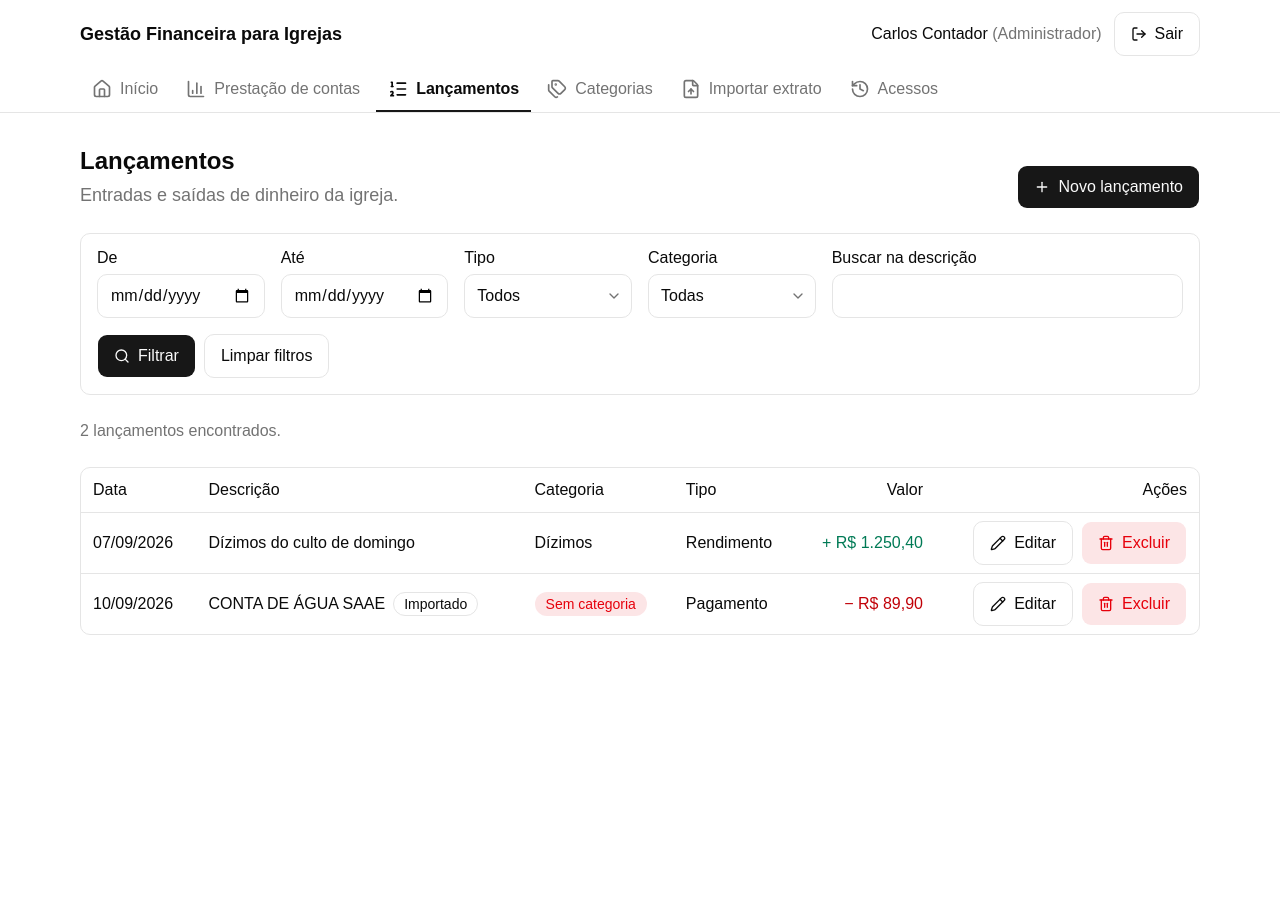
Página de lançamentos › cadastra um lançamento convertendo o valor brasileiro
Click the button "Novo lançamento": [1109, 187] box [1018, 165, 1200, 209]
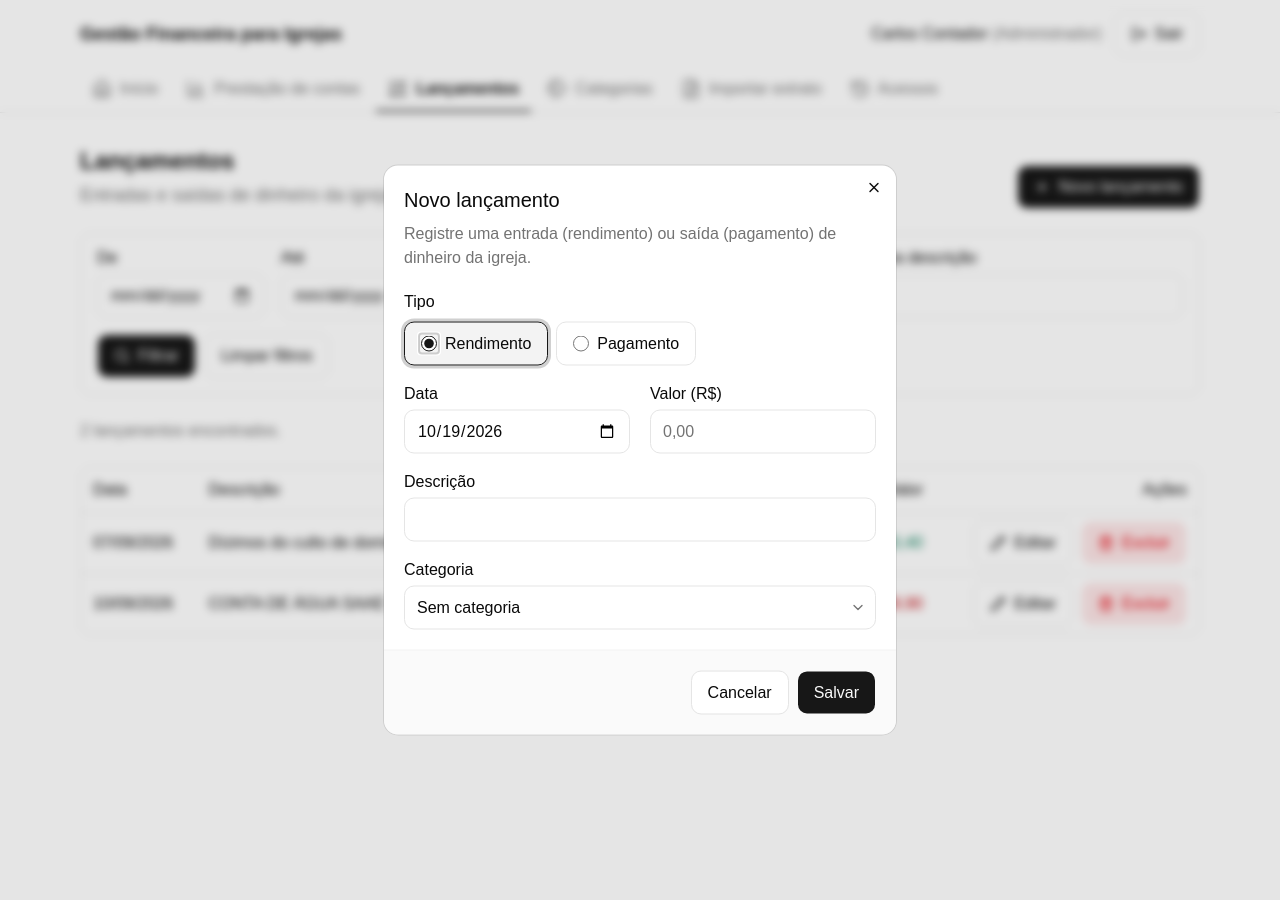
In the date field labelled "Data": [517, 432] box [404, 410, 630, 454], type "2026-09-14"
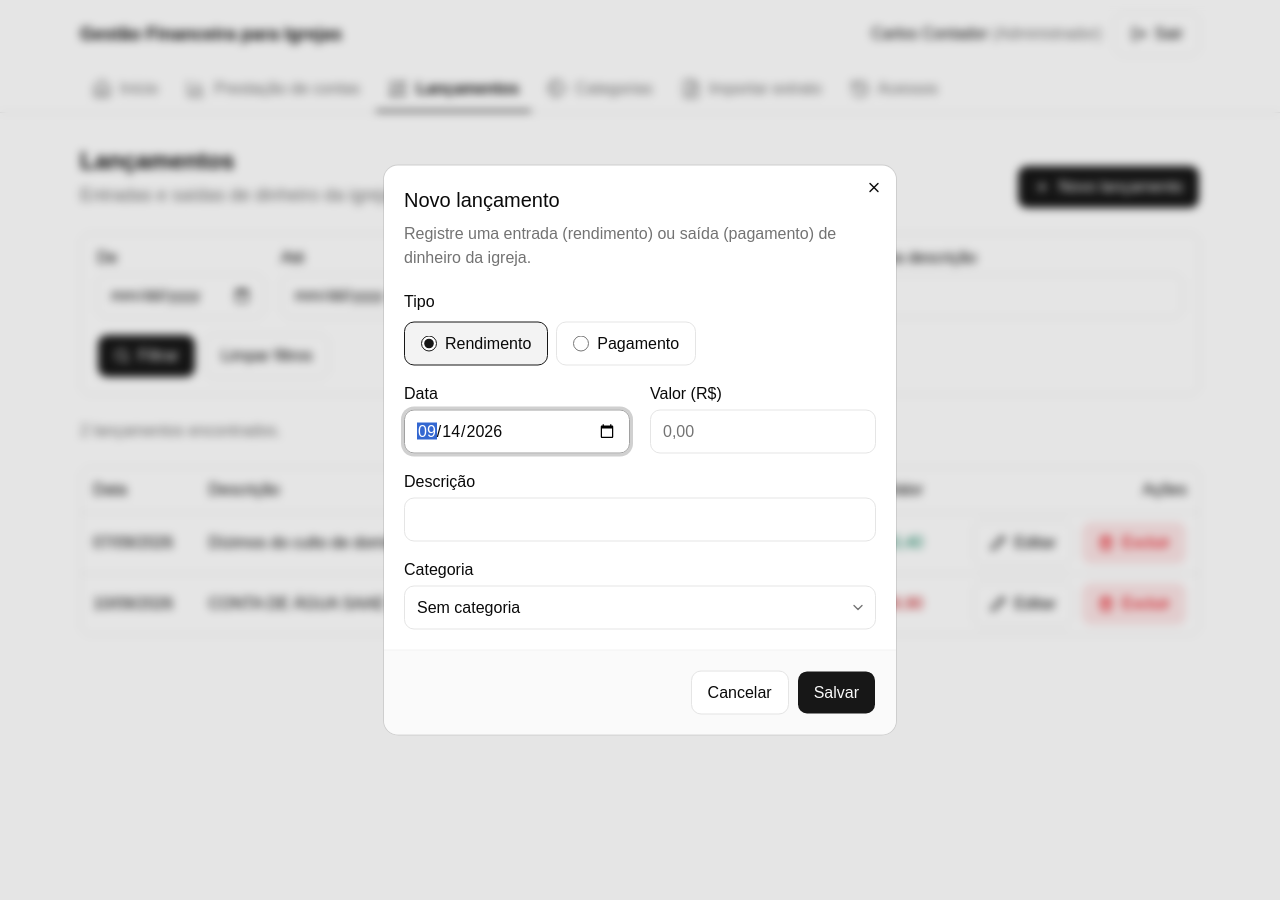
In the field labelled "Valor (R$)": [763, 432] box [650, 410, 876, 454], type "1.234,56"
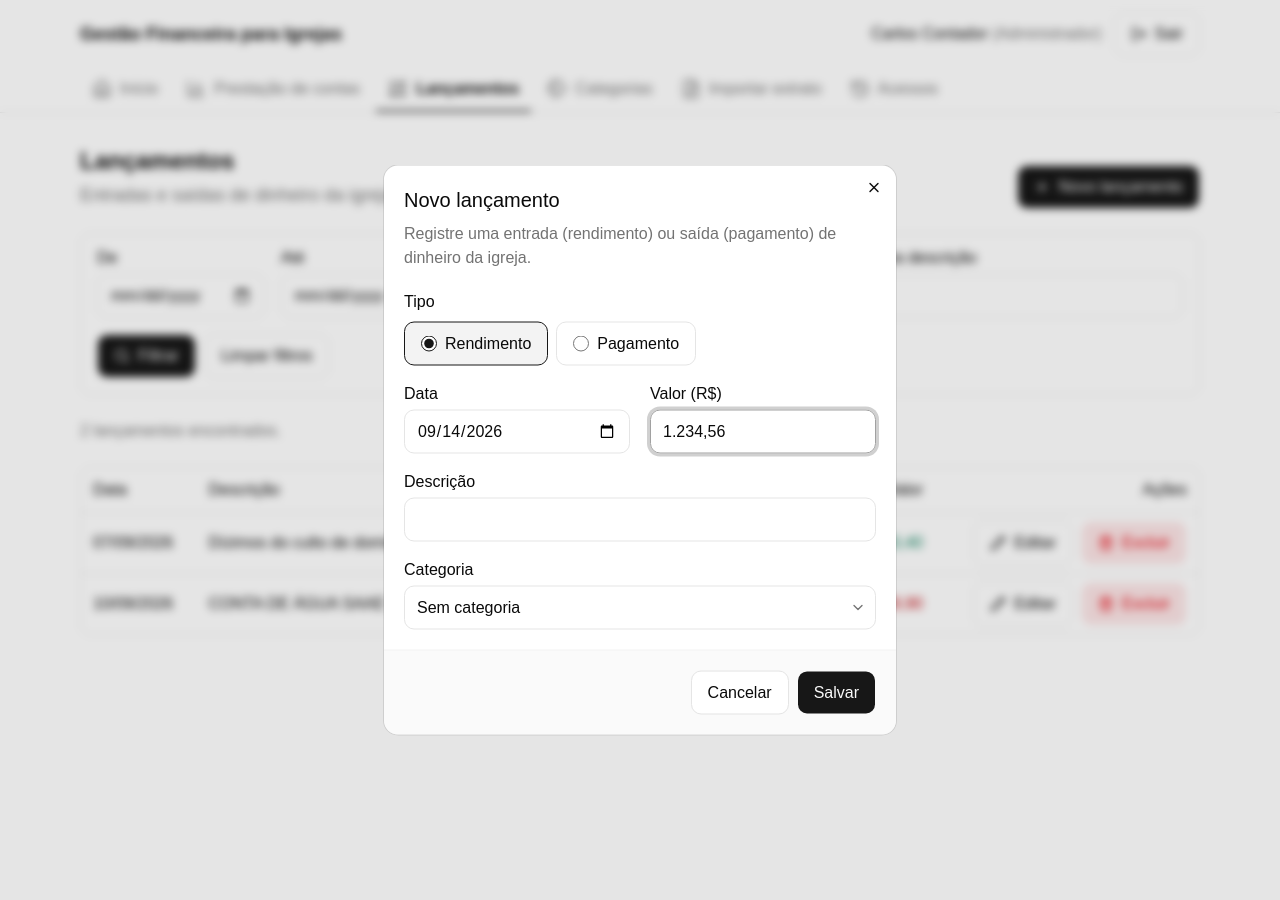
In the field labelled "Descrição": [640, 520] box [404, 498, 876, 542], type "Oferta missionária"
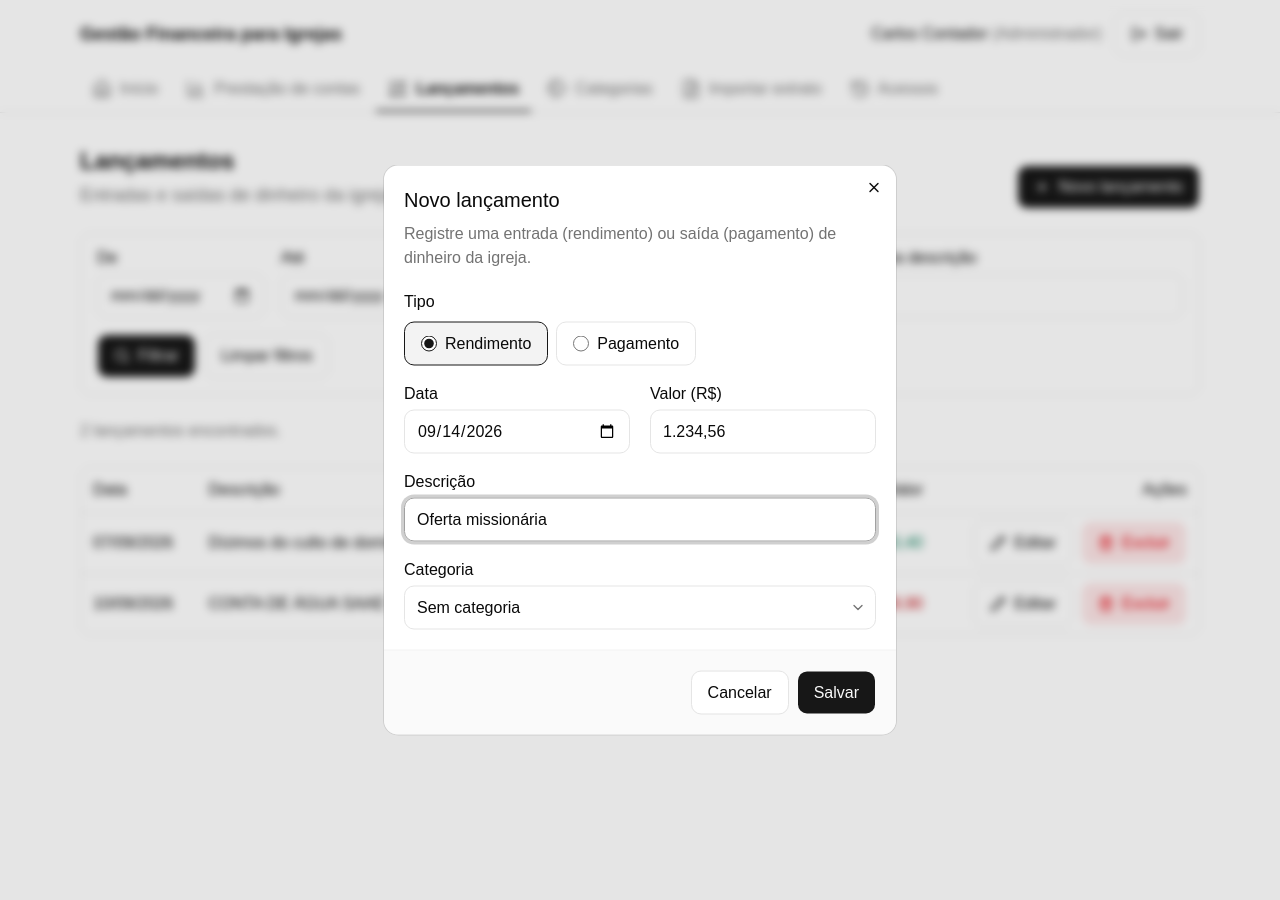
Select "Ofertas" in the dropdown labelled "Categoria": [640, 608] box [404, 586, 876, 630]
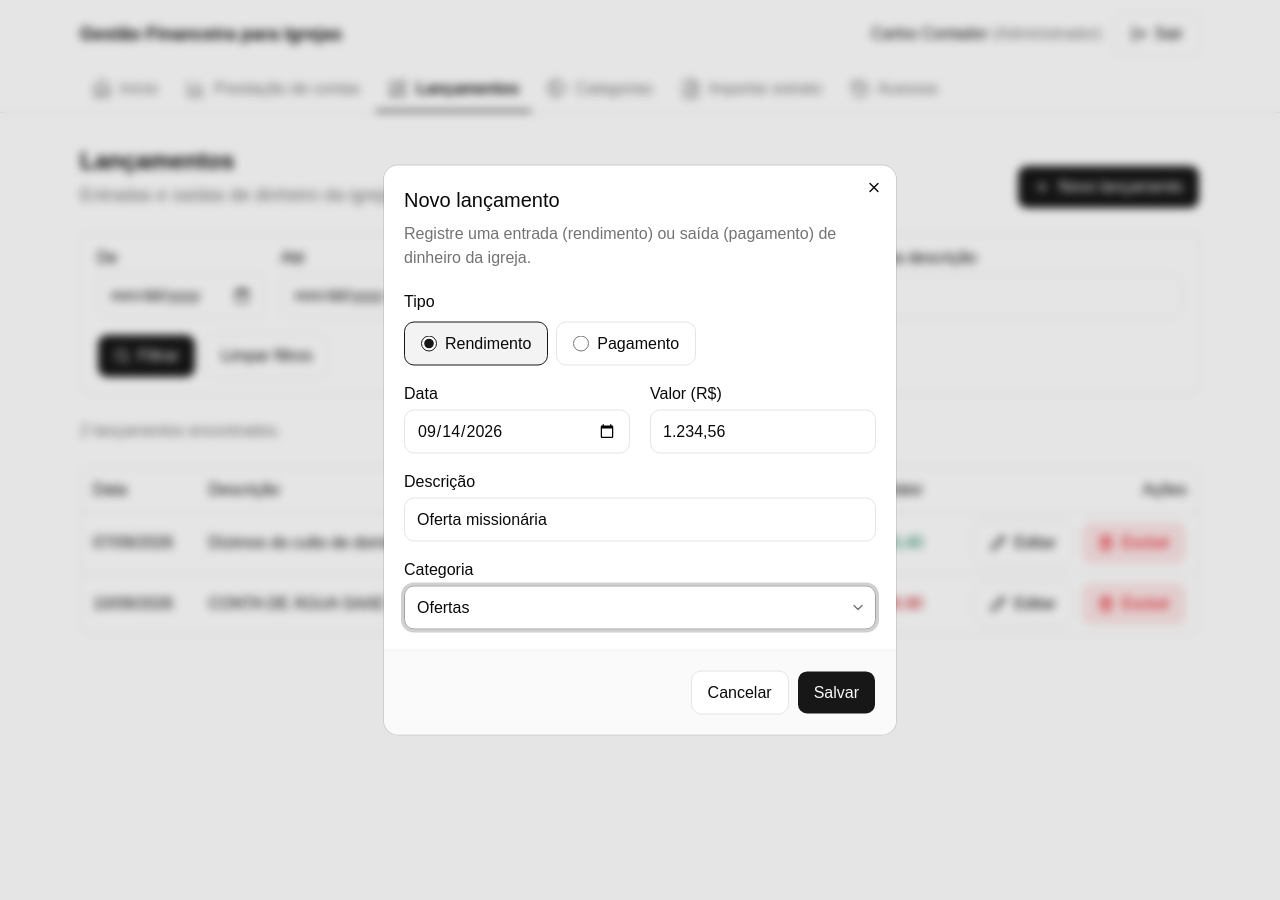
Click the button "Salvar": [836, 692] box [797, 670, 876, 714]
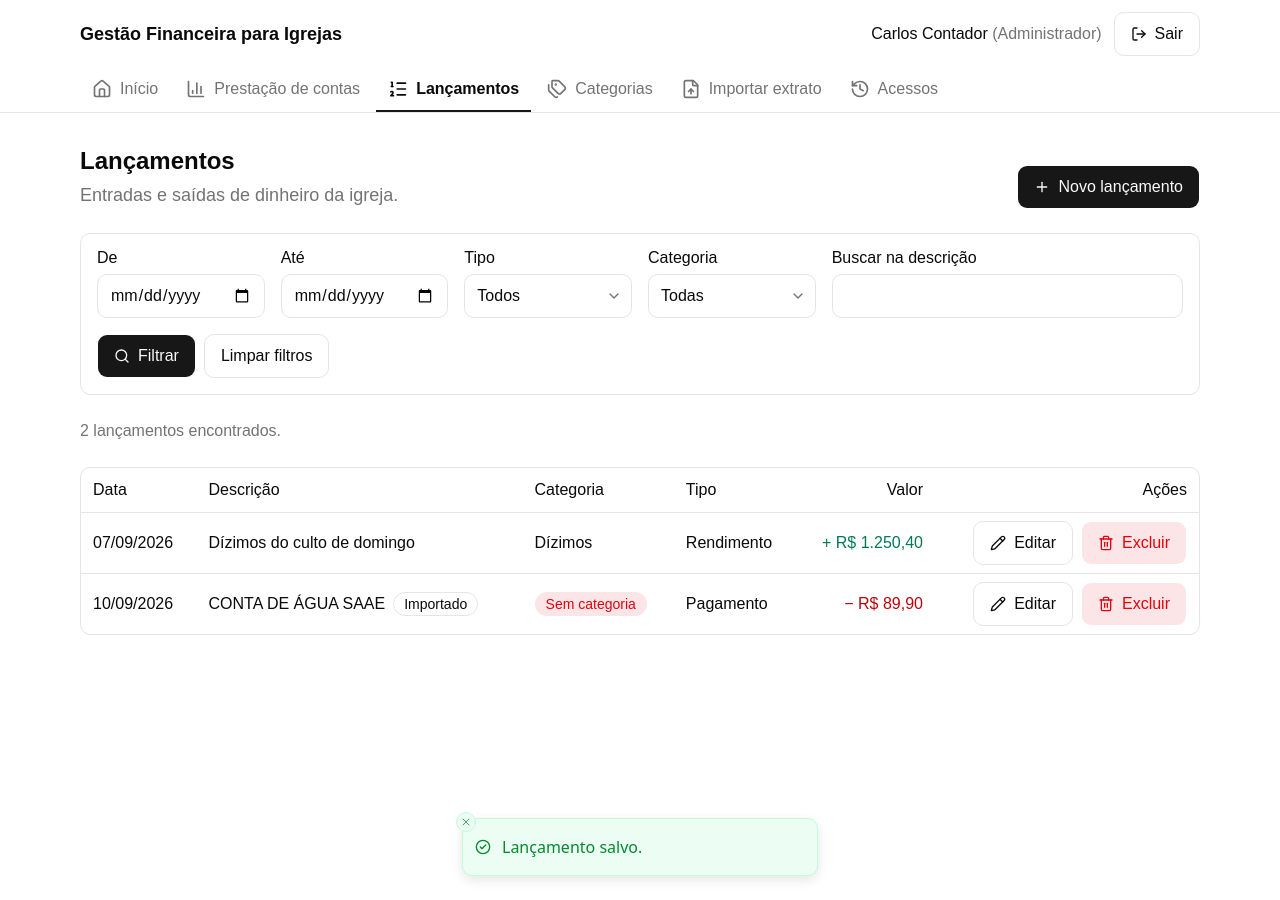
Now the text "Lançamento salvo." is shown, box [502, 835, 642, 859]
